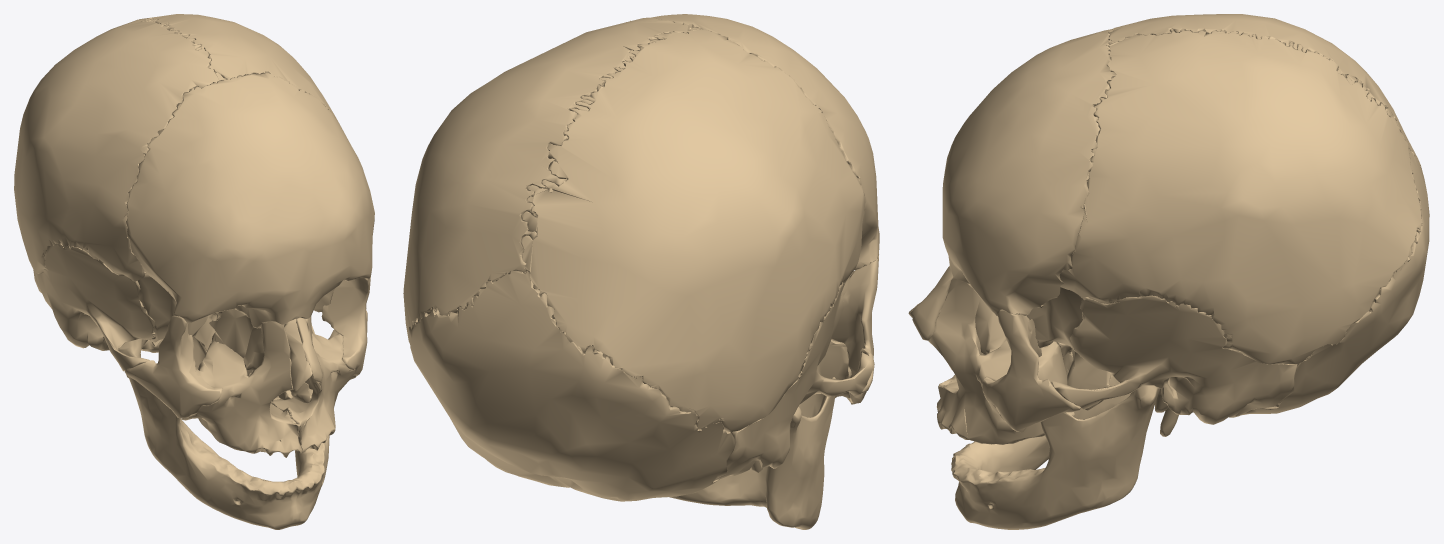
The model's file is explorar-skull.glb.
3 renders of one model, left to right at view 1: azimuth 30°, elevation 25°; view 2: azimuth 150°, elevation 25°; view 3: azimuth 270°, elevation 25°, orthographic. The views are drawn at different scales.
Parts seen in each view (by area): view 1: skull__frontal, skull__parietales, skull__maxilares, skull__mandibula, skull__temporales, skull__cigomaticos, skull__base; view 2: skull__parietales, skull__occipital, skull__frontal, skull__mandibula, skull__temporales, skull__cigomaticos, skull__maxilares; view 3: skull__parietales, skull__frontal, skull__temporales, skull__mandibula, skull__maxilares, skull__occipital, skull__base, skull__cigomaticos.
Part boxes in pixels (bbox=[...]): skull__frontal: bbox=[126, 72, 374, 328]; skull__parietales: bbox=[14, 14, 348, 281]; skull__maxilares: bbox=[181, 316, 356, 457]; skull__mandibula: bbox=[118, 325, 329, 529]; skull__temporales: bbox=[33, 242, 155, 377]; skull__cigomaticos: bbox=[125, 276, 370, 418]; skull__base: bbox=[138, 273, 334, 405]; skull__parietales: bbox=[403, 17, 865, 432]; skull__occipital: bbox=[408, 270, 734, 501]; skull__frontal: bbox=[626, 14, 879, 270]; skull__mandibula: bbox=[669, 377, 835, 529]; skull__temporales: bbox=[715, 281, 872, 480]; skull__cigomaticos: bbox=[831, 255, 878, 403]; skull__maxilares: bbox=[799, 339, 855, 417]; skull__parietales: bbox=[1059, 14, 1421, 364]; skull__frontal: bbox=[942, 29, 1116, 315]; skull__temporales: bbox=[1051, 295, 1297, 436]; skull__mandibula: bbox=[951, 375, 1160, 529]; skull__maxilares: bbox=[928, 277, 1067, 444]; skull__occipital: bbox=[1241, 149, 1429, 415]; skull__base: bbox=[908, 266, 1111, 416]; skull__cigomaticos: bbox=[982, 309, 1080, 432].
Size of the model in its own units: 0.1439 by 0.2027 by 0.1974.
